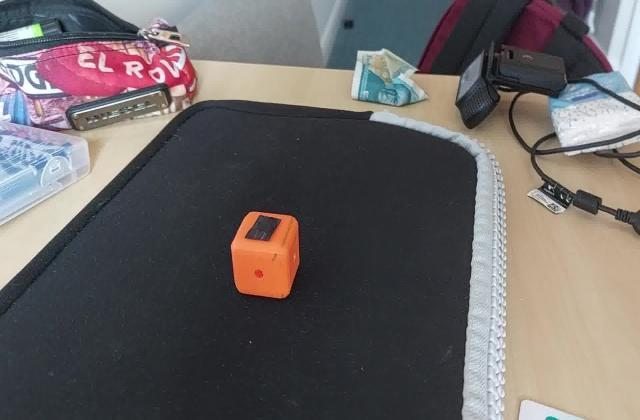black: (247, 215, 281, 246)
cube: (228, 208, 302, 300)
